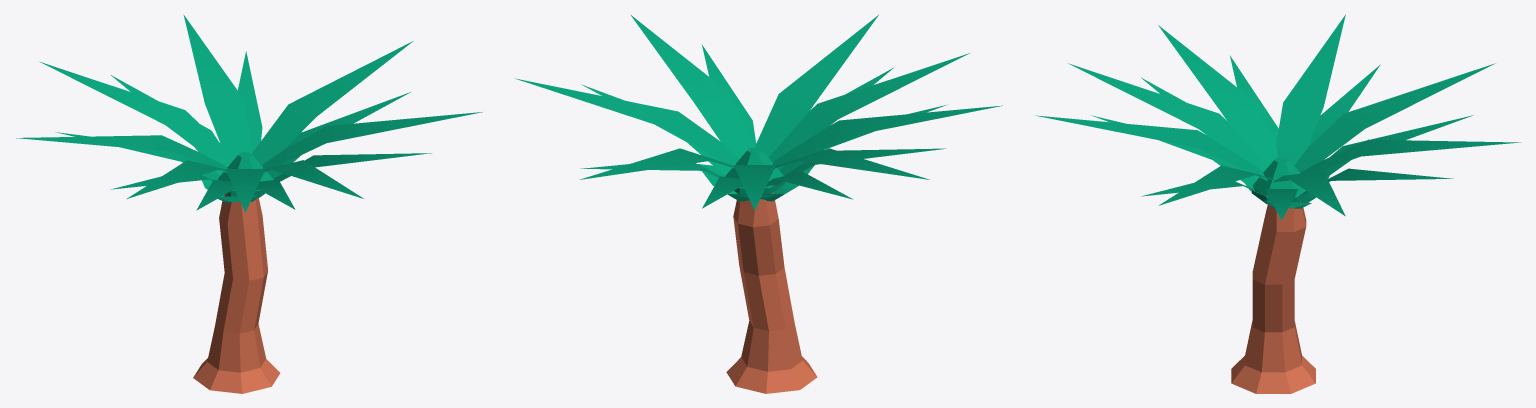
Rendered from Palme3.fbx.
3 views of the same model, side by side, from view 1: azimuth 30°, elevation 25°; view 2: azimuth 150°, elevation 25°; view 3: azimuth 270°, elevation 25° (orthographic). The views are drawn at different scales.
Parts seen in each view (by area): view 1: mergedBlocks; view 2: mergedBlocks; view 3: mergedBlocks.
Part boxes in pixels (x1,y1,x2,y2): mergedBlocks: (16,14,482,393); mergedBlocks: (514,14,1002,393); mergedBlocks: (1034,14,1520,393).
Size of the model in its own units: 413 by 254 by 421.
